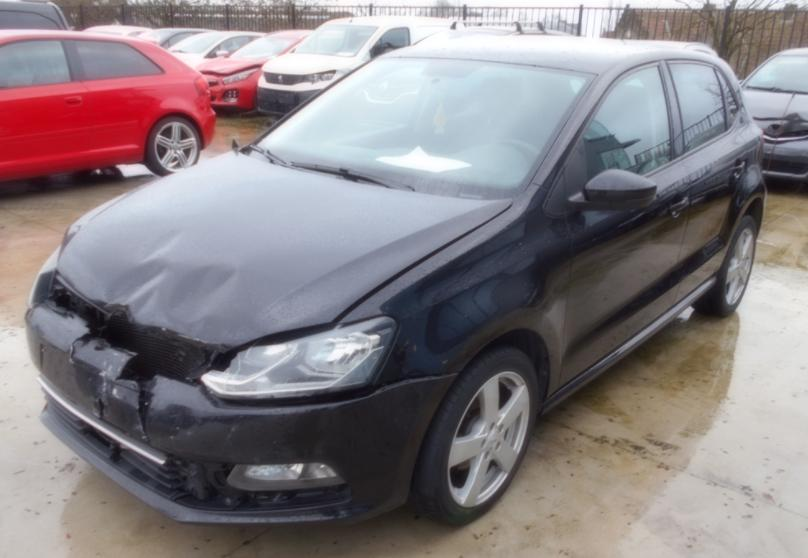Back-door: (660, 60, 760, 307)
Back-wheel: (692, 216, 758, 316)
Back-window: (666, 61, 740, 154)
Fender: (335, 184, 573, 401)
Front-bumper: (26, 299, 461, 526)
Front-door: (542, 60, 691, 389)
Front-wheel: (410, 346, 540, 525)
Front-window: (584, 66, 671, 182)
Grille: (49, 271, 221, 387)
Headlight: (200, 315, 399, 397), (30, 243, 63, 306)
Hood: (57, 149, 514, 353)
Mirror: (566, 169, 657, 211)
Quarter-panel: (724, 123, 768, 263)
Rocker-panel: (539, 276, 717, 416)
Roof: (377, 29, 723, 74)
Windshield: (240, 58, 598, 199)
